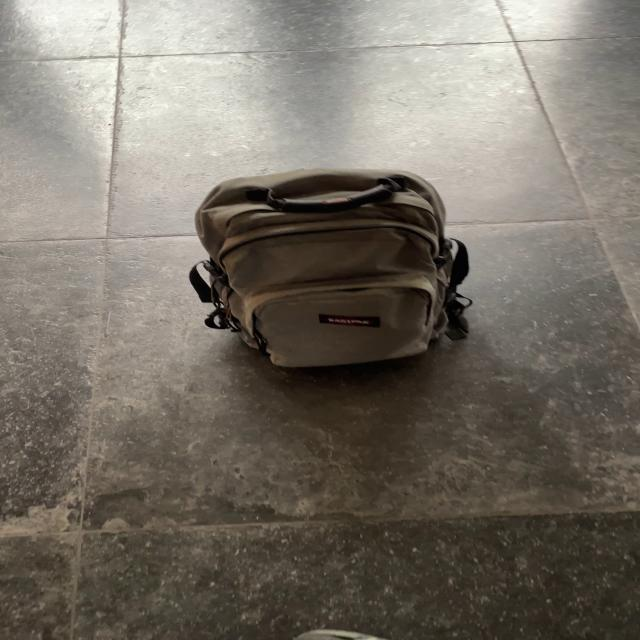backpack: (177, 164, 478, 373)
